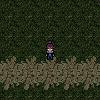Victim: (43, 40, 57, 61)
